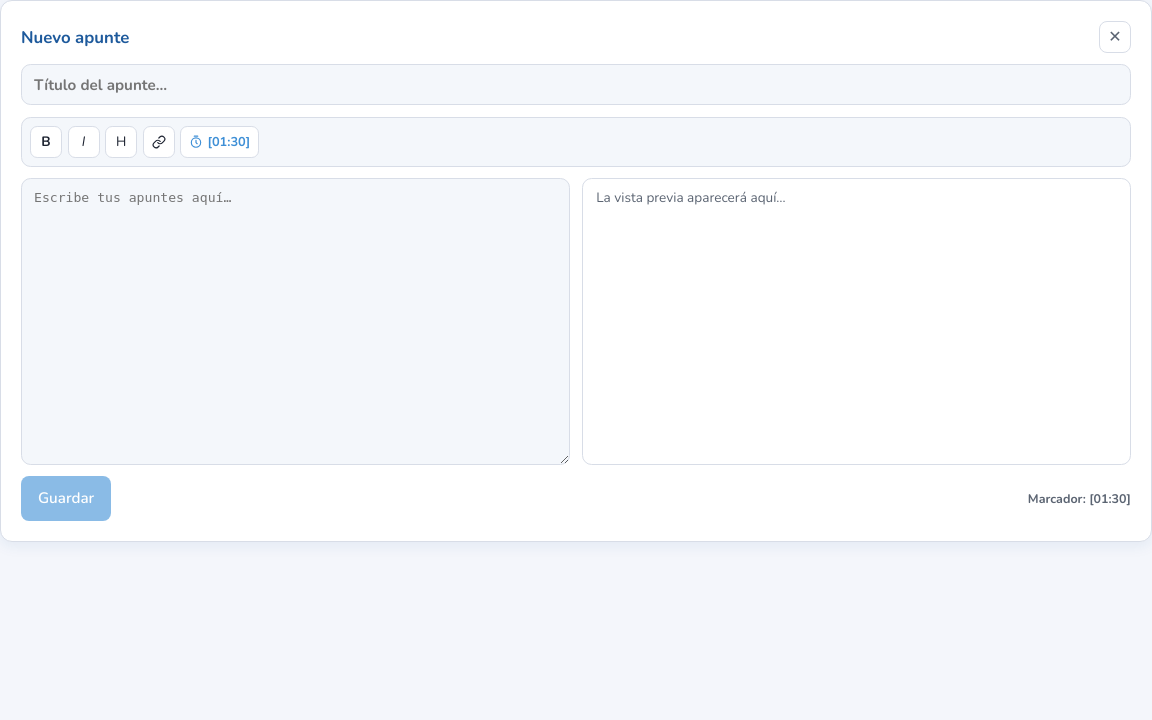
ApunteEditor › muestra el error del backend cuando no puede guardar
Type "Tema" into the field with placeholder "Título del apunte…". click: (576, 85)
box: [21,64,1131,105]
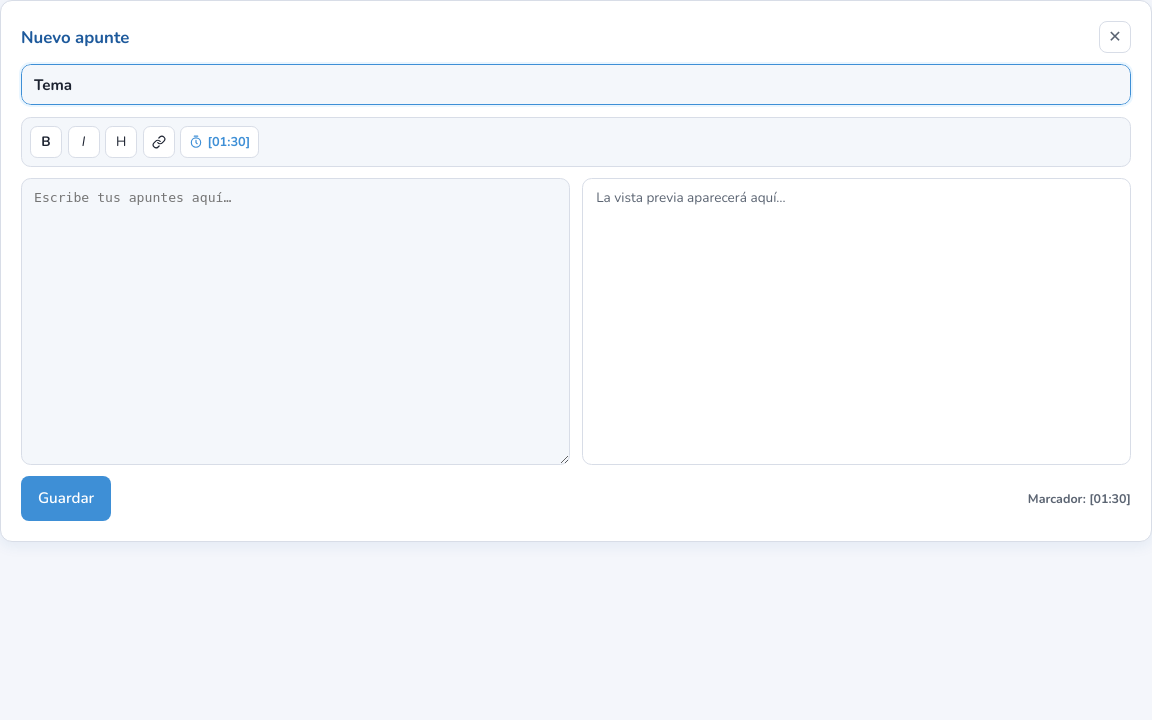
Type "Contenido" into the text box with placeholder "Escribe tus apuntes aquí…". click: (296, 321)
box: [21,178,570,465]
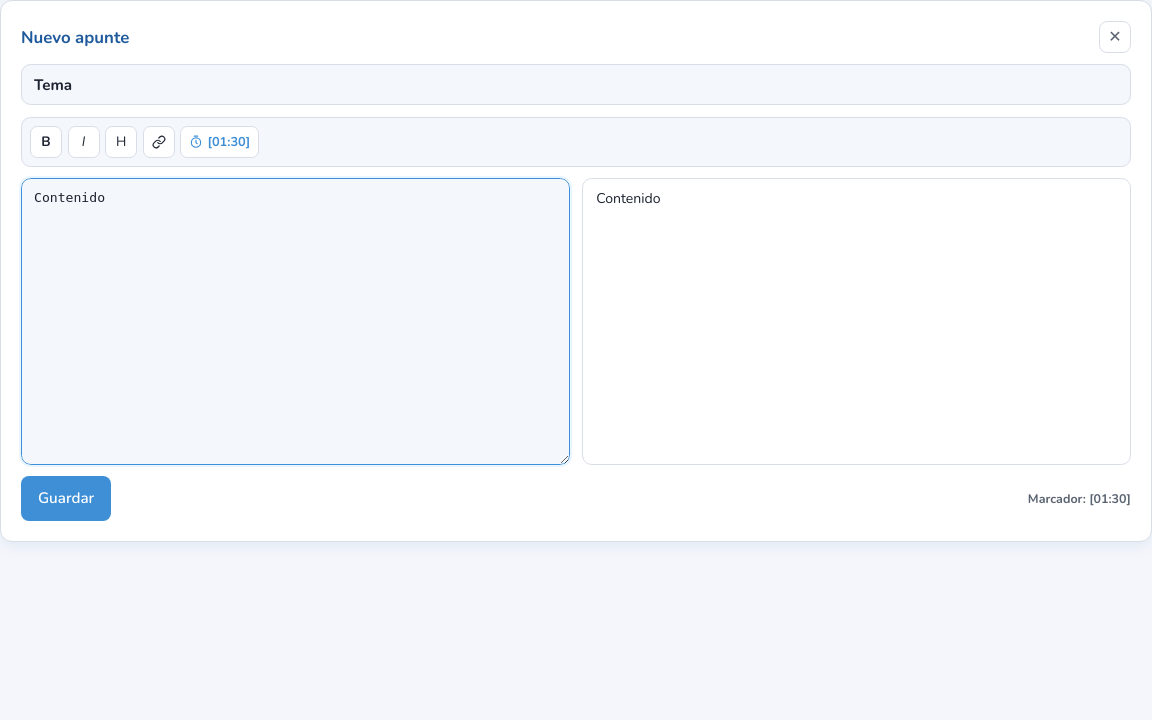
Click the button "Guardar". click: (66, 498)
box: [21,476,111,520]
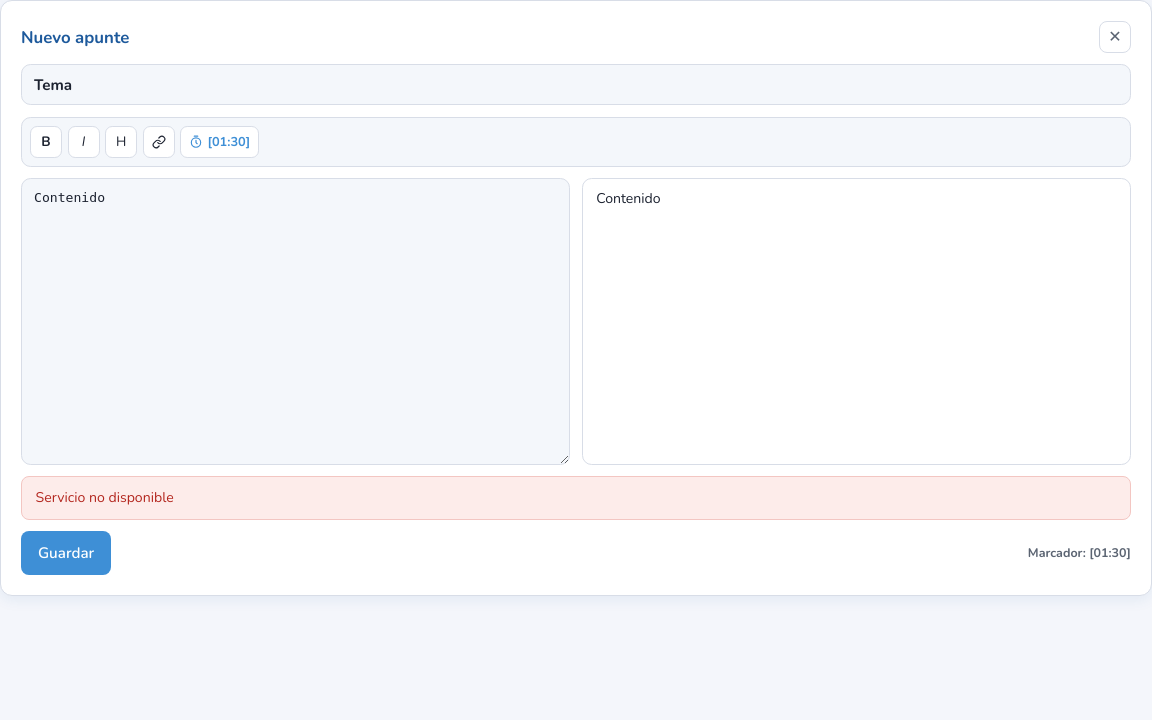
Result: the message reads "Servicio no disponible" at [36,488,174,507]
